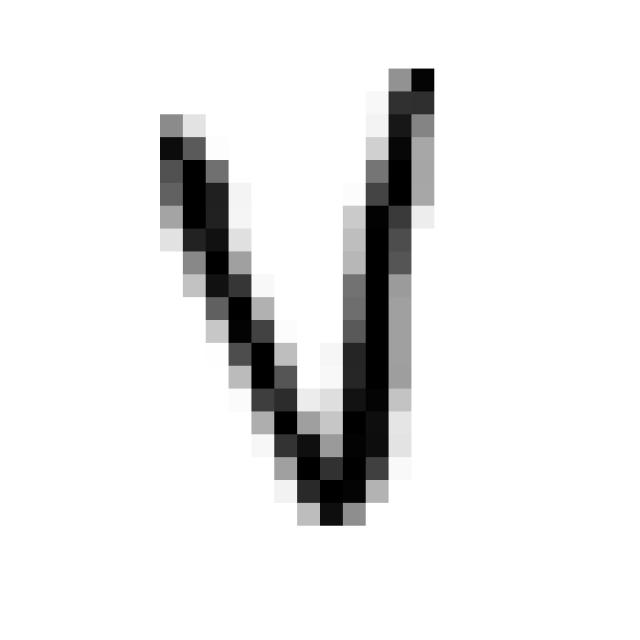7 -seven-: (135, 50, 450, 532)
